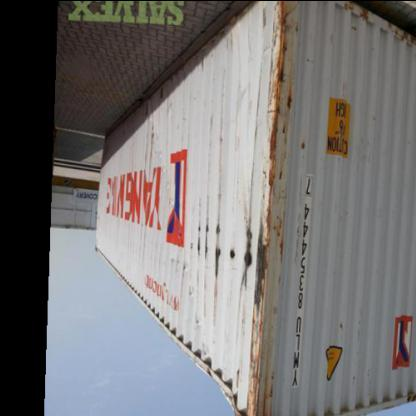Damage: (241, 4, 301, 206), (184, 216, 276, 326), (174, 340, 264, 416), (336, 3, 414, 45), (133, 96, 161, 181)
